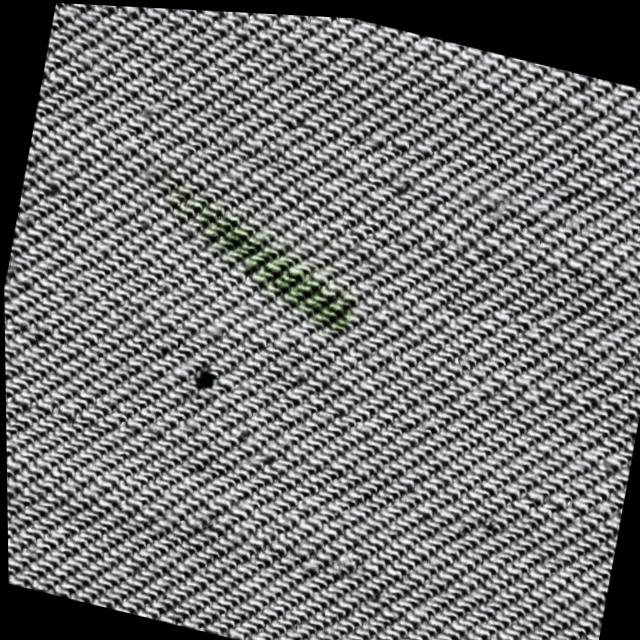Hole: (174, 331, 228, 424)
